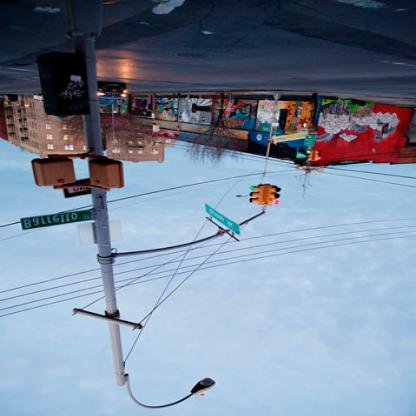Streetlights 1: (32, 6, 310, 411)
